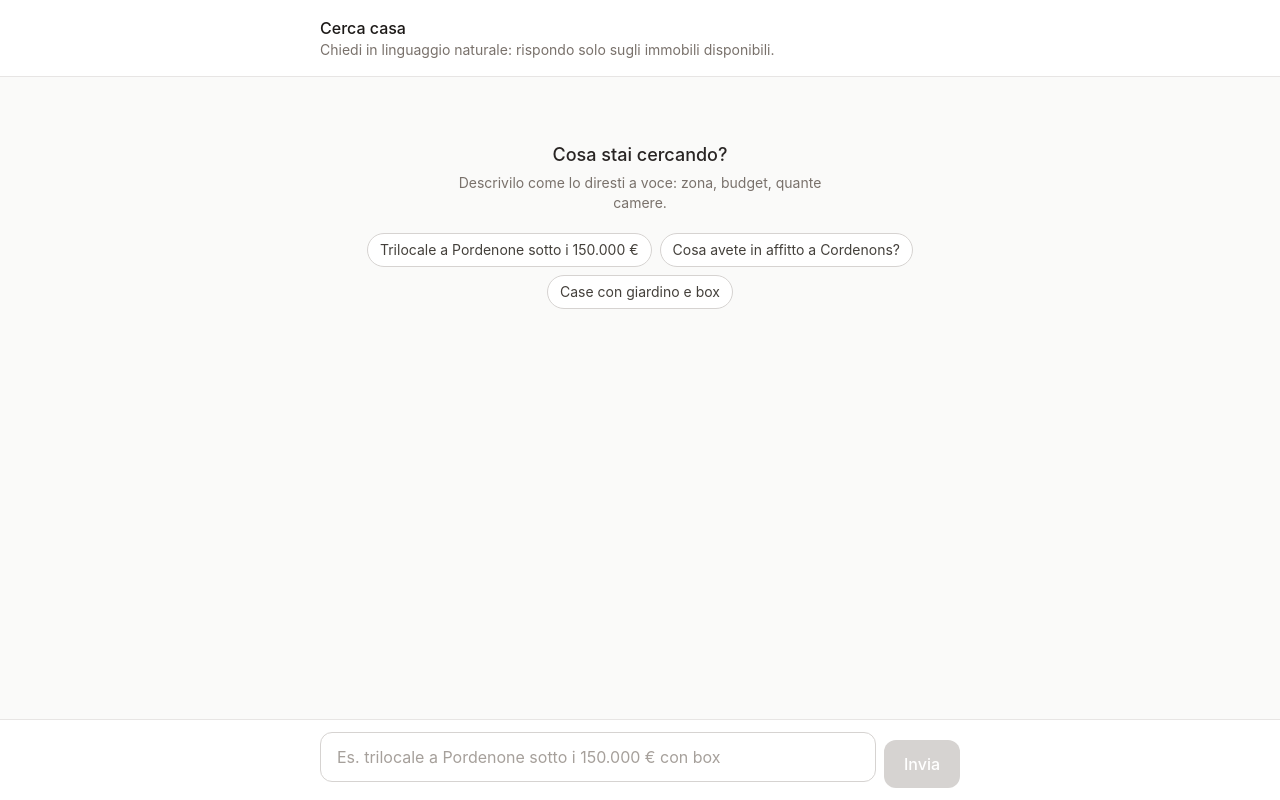
Test: the chat page › shows a rate-limit refusal in the conversation instead of failing silently
The image size is (1280, 800).
Type "case" into the text box named "Scrivi la tua richiesta" at point(598, 757), box [320, 732, 876, 782]
Then press Enter
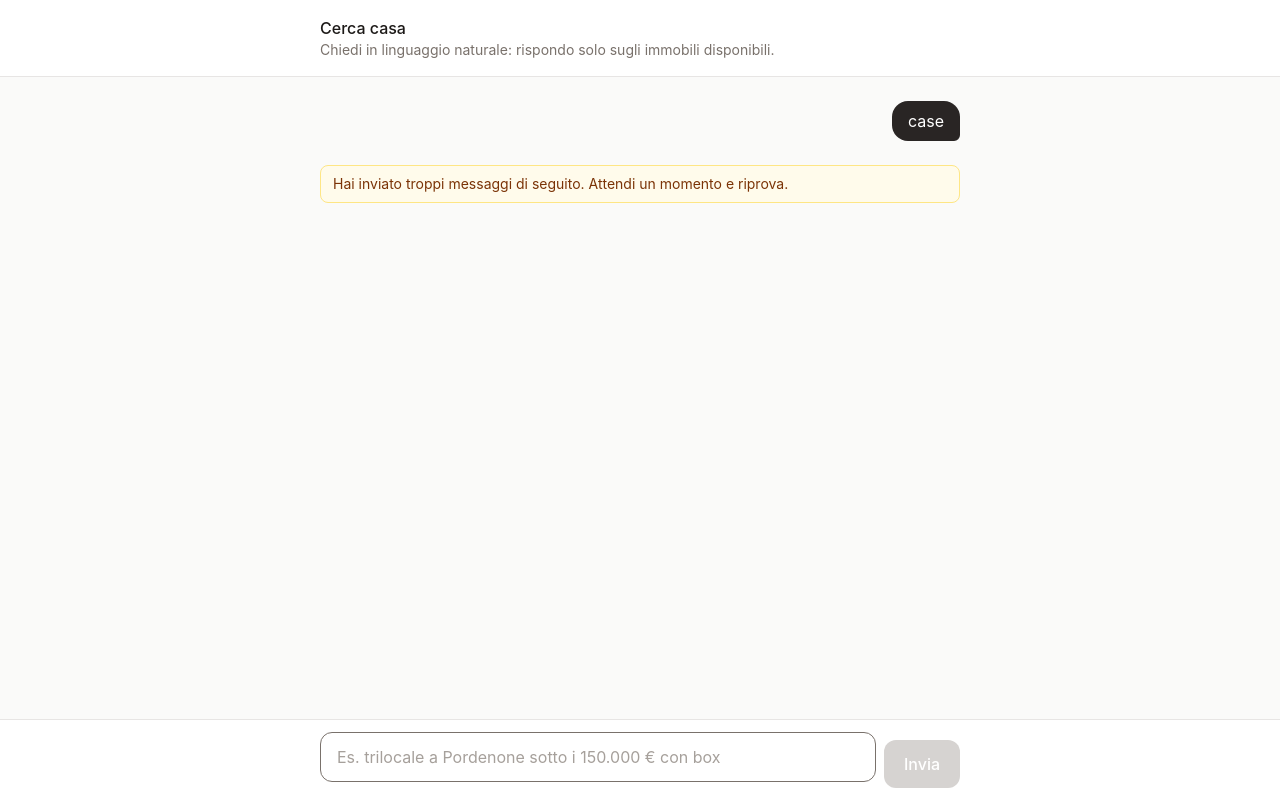
Expected: the message shows "troppi messaggi", [333, 175, 788, 192]
